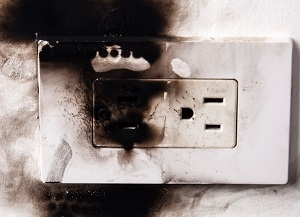outlet: (179, 94, 226, 133)
